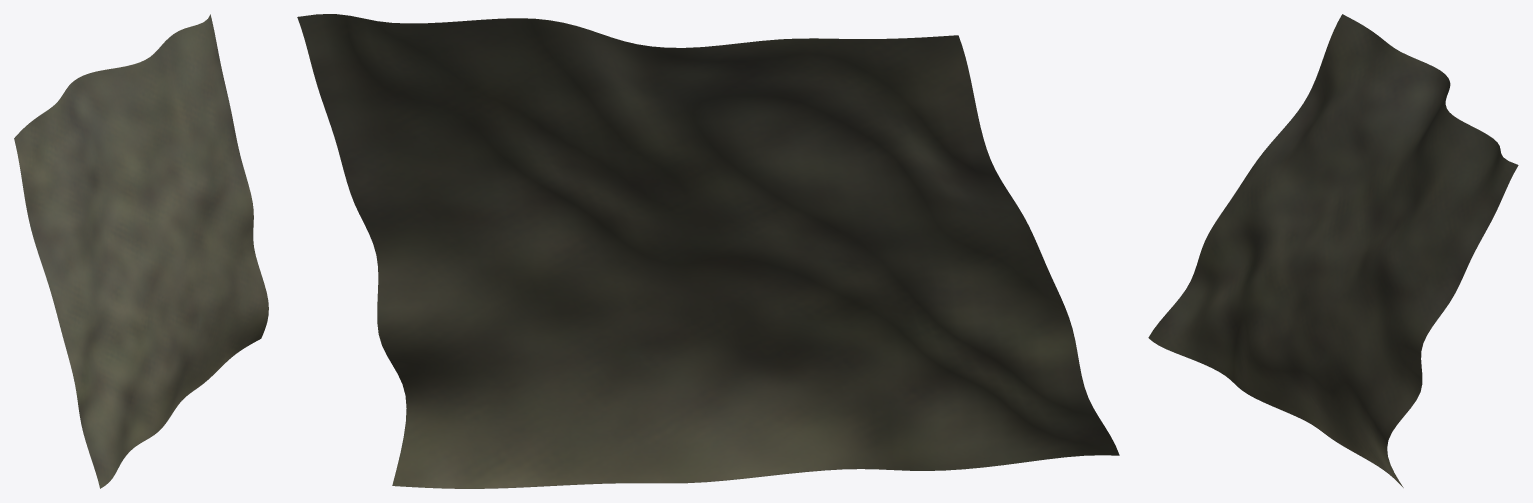
The model's file is ground_mid_01_07.obj.
3 views of the same model, side by side, from view 1: azimuth 30°, elevation 25°; view 2: azimuth 150°, elevation 25°; view 3: azimuth 270°, elevation 25° (orthographic). The views are drawn at different scales.
Parts seen in each view (by area): view 1: ground_mid_01_07; view 2: ground_mid_01_07; view 3: ground_mid_01_07.
Boxes of the visible parts, x1,y1,x2,y2 form: ground_mid_01_07: [14, 14, 268, 488]; ground_mid_01_07: [297, 14, 1119, 488]; ground_mid_01_07: [1148, 14, 1518, 487].
Size of the model in its own units: 200 by 200 by 207.
1 material, 1 textured.
